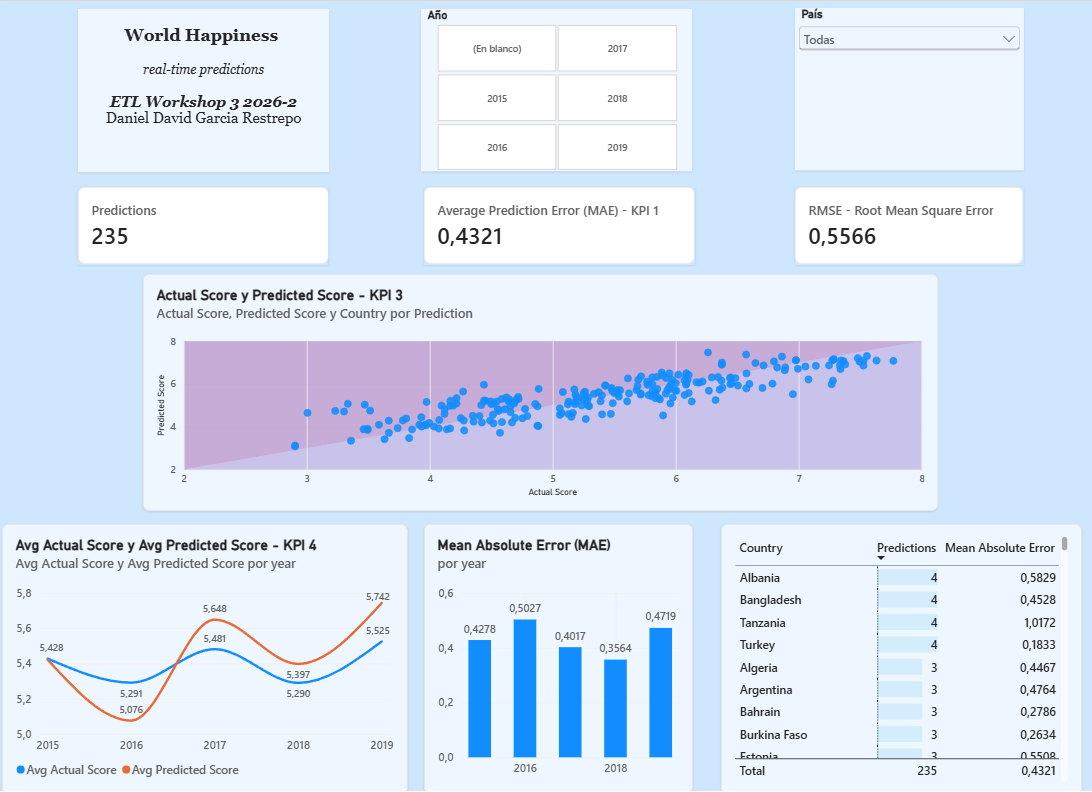

The dashboard page shown, as its layout file describes it:
{"tool":"powerbi","page":{"name":"Prediction KPIs","canvas":[1920,1080],"ordinal":0},"visuals":[{"type":"slicer","title":"Año","fields":{"Values":["dim_date.year"]},"box":[532.5,10,338.9,203.3],"z":0},{"type":"slicer","fields":{"Values":["dim_country.country_name"]},"box":[1000,8.8,285.6,203.3],"z":1000},{"type":"cardVisual","fields":{"Data":["fact_predictions.Predictions"]},"box":[103.8,232.5,313.3,96.7],"z":2000},{"type":"cardVisual","fields":{"Data":["fact_predictions.Mean Absolute Error"]},"box":[536.2,232.5,338.9,96.7],"z":3000},{"type":"cardVisual","fields":{"Data":["fact_predictions.RMSE"]},"box":[1000,232.5,285.6,96.7],"z":4000},{"type":"textbox","box":[103.8,10,313.8,203.8],"z":5000},{"type":"scatterChart","title":"Actual Score y Predicted Score - KPI 3","fields":{"Category":["fact_predictions.prediction_id"],"X":["Avg(fact_predictions.actual_score)"],"Y":["Avg(fact_predictions.predicted_score)"]},"box":[185,341.2,994.4,295.6],"z":6000},{"type":"lineChart","title":"Avg Actual Score y Avg Predicted Score - KPI 4","fields":{"Category":["dim_date.year"],"Y":["fact_predictions.Avg Actual Score","fact_predictions.Avg Predicted Score"]},"box":[8.3,653.3,506.7,338.3],"z":7000},{"type":"tableEx","fields":{"Values":["dim_country.country_name","fact_predictions.Predictions","fact_predictions.Mean Absolute Error"]},"box":[907.5,653.8,451.2,338.8],"z":8000},{"type":"clusteredColumnChart","fields":{"Category":["dim_date.year"],"Y":["fact_predictions.Mean Absolute Error"]},"box":[536.2,653.8,335.6,336.7],"z":9000}]}

Visuals, with their boxes on the page's 1920x1080 design canvas (x1, y1, x2, y2). These are canvas units, not pixel positions in the 1092x792 screenshot, which may show the page scaled, cropped or inside an application window:
"Año" slicer: bbox=(532, 10, 871, 213)
slicer - dim_country.country_name: bbox=(1000, 9, 1286, 212)
cardVisual - fact_predictions.Predictions: bbox=(104, 232, 417, 329)
cardVisual - fact_predictions.Mean Absolute Error: bbox=(536, 232, 875, 329)
cardVisual - fact_predictions.RMSE: bbox=(1000, 232, 1286, 329)
textbox: bbox=(104, 10, 418, 214)
"Actual Score y Predicted Score - KPI 3" scatterChart: bbox=(185, 341, 1179, 637)
"Avg Actual Score y Avg Predicted Score - KPI 4" lineChart: bbox=(8, 653, 515, 992)
tableEx - dim_country.country_name x fact_predictions.Predictions: bbox=(908, 654, 1359, 993)
clusteredColumnChart - dim_date.year x fact_predictions.Mean Absolute Error: bbox=(536, 654, 872, 990)
